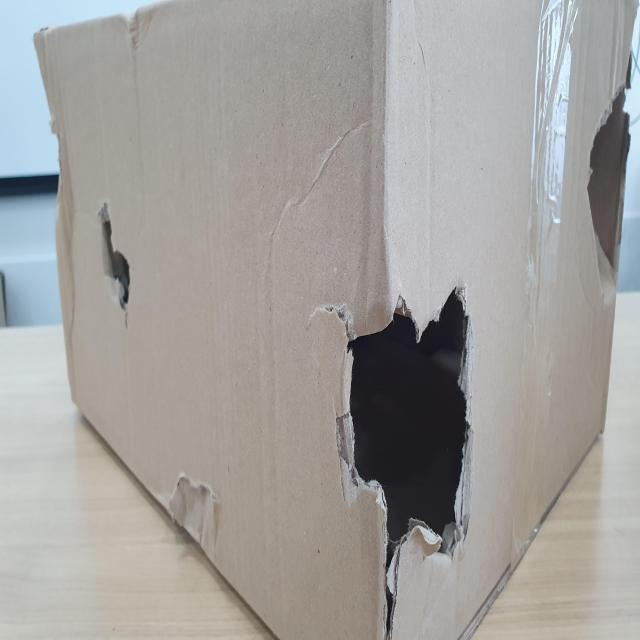damaged: (302, 245, 478, 638), (578, 45, 633, 302), (93, 196, 134, 331)
